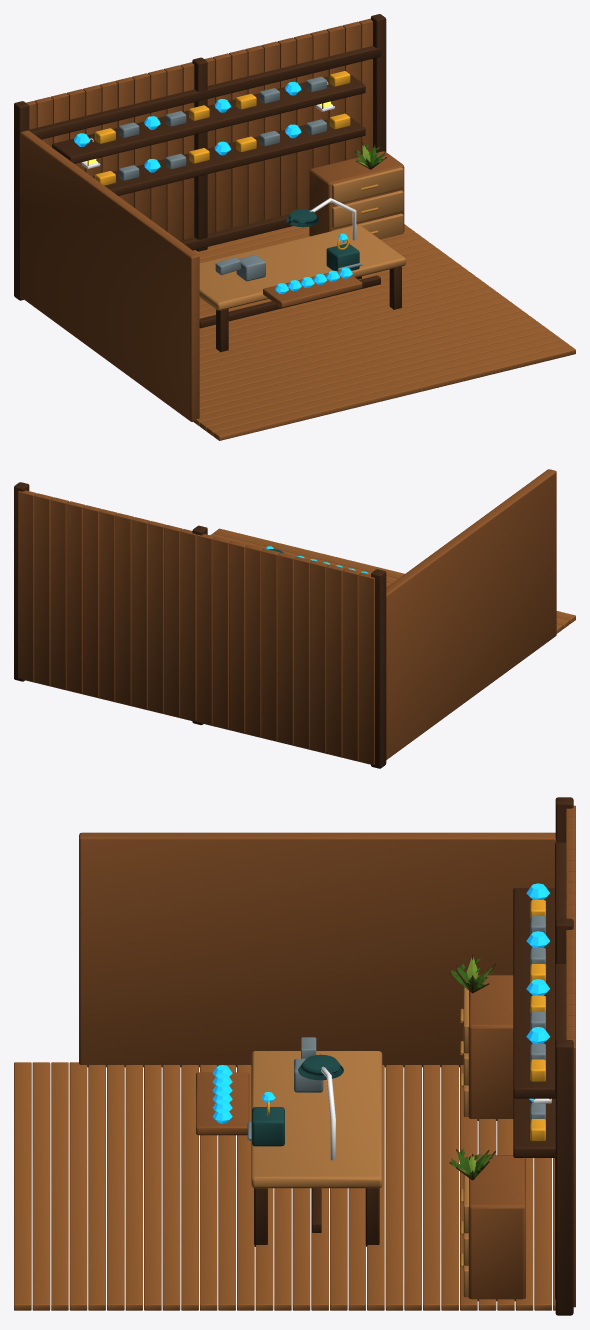
File: Workshop.fbx
The picture shows the model from 3 angles, top to bottom: view 1: azimuth 30°, elevation 25°; view 2: azimuth 150°, elevation 25°; view 3: azimuth 270°, elevation 25°; orthographic projection. The views are drawn at different scales.
Visible parts, largest first — view 1: Workshop_Env_Oak, Workshop_Env_Floor, Workshop_Env_DarkOak, Workshop_Env_LightOak, Workshop_Env_Steel, Workshop_Env_Gold, Workshop_Env_GemBlue, Workshop_Env_TealDark, Workshop_Env_Iron; view 2: Workshop_Env_Oak, Workshop_Env_DarkOak, Workshop_Env_Floor; view 3: Workshop_Env_Oak, Workshop_Env_Floor, Workshop_Env_DarkOak, Workshop_Env_LightOak, Workshop_Env_Steel, Workshop_Env_GemBlue, Workshop_Env_TealDark, Workshop_Env_Gold, Workshop_Env_Leaf, Workshop_Env_Iron.
Part boxes in pixels (left/top/right/bottom): Workshop_Env_Oak: left=20, top=18, right=404, bottom=421; Workshop_Env_Floor: left=193, top=224, right=575, bottom=440; Workshop_Env_DarkOak: left=14, top=14, right=401, bottom=352; Workshop_Env_LightOak: left=199, top=167, right=405, bottom=310; Workshop_Env_Steel: left=118, top=76, right=362, bottom=281; Workshop_Env_Gold: left=95, top=71, right=350, bottom=249; Workshop_Env_GemBlue: left=74, top=81, right=352, bottom=294; Workshop_Env_TealDark: left=286, top=209, right=359, bottom=270; Workshop_Env_Iron: left=81, top=81, right=356, bottom=240; Workshop_Env_Oak: left=18, top=469, right=556, bottom=764; Workshop_Env_DarkOak: left=14, top=482, right=386, bottom=768; Workshop_Env_Floor: left=25, top=528, right=575, bottom=764; Workshop_Env_Oak: left=79, top=805, right=575, bottom=1307; Workshop_Env_Floor: left=14, top=1062, right=555, bottom=1310; Workshop_Env_DarkOak: left=254, top=797, right=573, bottom=1315; Workshop_Env_LightOak: left=251, top=986, right=468, bottom=1297; Workshop_Env_Steel: left=247, top=916, right=545, bottom=1140; Workshop_Env_GemBlue: left=212, top=883, right=549, bottom=1123; Workshop_Env_TealDark: left=252, top=1054, right=343, bottom=1146; Workshop_Env_Gold: left=267, top=900, right=545, bottom=1141; Workshop_Env_Leaf: left=451, top=958, right=493, bottom=1178; Workshop_Env_Iron: left=321, top=1066, right=551, bottom=1160.
Size of the model in its own units: 7.2 by 3.64 by 6.85.
